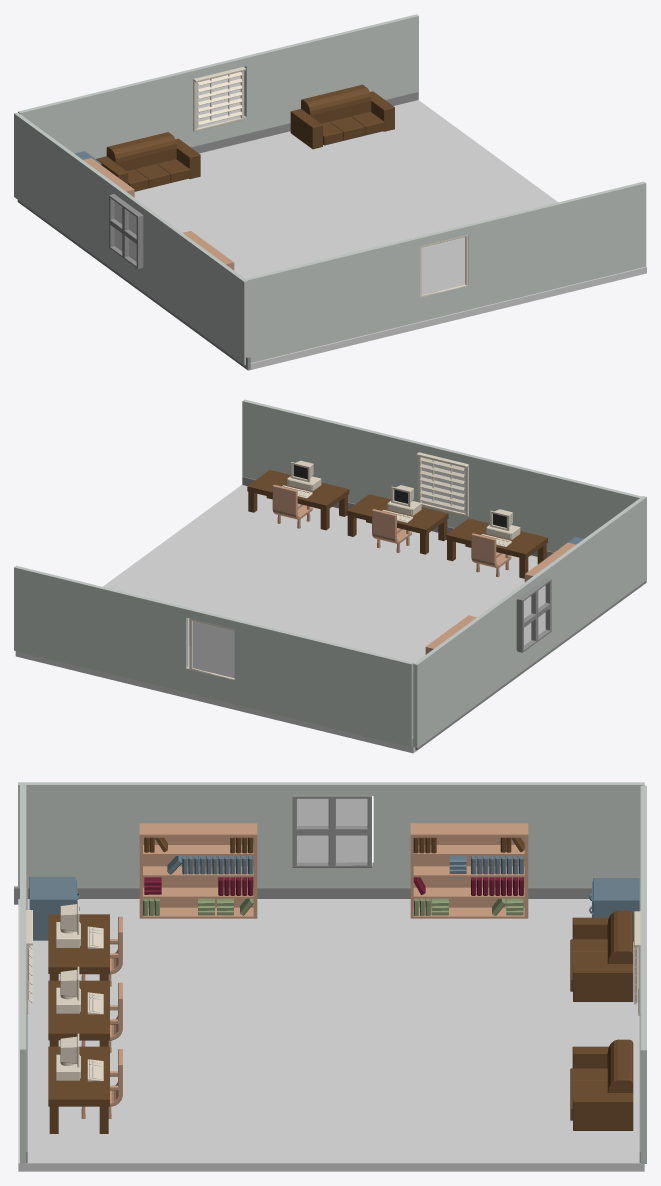
File: updatedLevel1.glb
3 views of the same model, one above another, from view 1: azimuth 30°, elevation 25°; view 2: azimuth 150°, elevation 25°; view 3: azimuth 270°, elevation 25° (orthographic). The views are drawn at different scales.
Parts seen in each view (by area): view 1: Cube.004, Cube.003, Cube.009, Cube.005, Couch.001, Couch, Window Cross.004, Window Cross.003, Window Cross.005, Wall Skirting.002, Wall Skirting.001; view 2: Cube.004, Cube.009, Cube.003, Cube.005, Window Cross.003, Window Cross.004, Table, Table.001, Window Cross.005, Table.002, Chair1.002, Chair1 (+5 smaller); view 3: Cube.004, Cube.005, Shelf, Shelf.002, Window Cross.005, Couch, Couch.001, Wall Skirting.001, Table, Table.001, Table.002, Cube.003 (+11 smaller).
Part boxes in pixels (bbox=[...]): Cube.004: bbox=[134, 100, 646, 370]; Cube.003: bbox=[245, 181, 646, 362]; Cube.009: bbox=[18, 14, 418, 158]; Cube.005: bbox=[14, 112, 248, 365]; Couch.001: bbox=[290, 84, 394, 149]; Couch: bbox=[96, 132, 200, 191]; Window Cross.004: bbox=[193, 67, 245, 131]; Window Cross.003: bbox=[420, 234, 468, 297]; Window Cross.005: bbox=[109, 194, 143, 269]; Wall Skirting.002: bbox=[191, 92, 418, 153]; Wall Skirting.001: bbox=[17, 200, 250, 369]; Cube.004: bbox=[15, 485, 537, 753]; Cube.009: bbox=[14, 565, 413, 747]; Cube.003: bbox=[242, 399, 641, 552]; Cube.005: bbox=[413, 496, 646, 747]; Window Cross.003: bbox=[416, 452, 468, 516]; Window Cross.004: bbox=[189, 618, 234, 679]; Table: bbox=[247, 470, 349, 530]; Table.001: bbox=[346, 494, 448, 554]; Window Cross.005: bbox=[516, 577, 551, 652]; Table.002: bbox=[446, 518, 547, 578]; Chair1.002: bbox=[471, 533, 511, 577]; Chair1: bbox=[272, 484, 312, 528]; Cube.004: bbox=[18, 899, 644, 1171]; Cube.005: bbox=[18, 782, 644, 887]; Shelf: bbox=[139, 823, 257, 918]; Shelf.002: bbox=[410, 823, 528, 918]; Window Cross.005: bbox=[292, 794, 371, 867]; Couch: bbox=[570, 910, 633, 1001]; Couch.001: bbox=[570, 1039, 633, 1130]; Wall Skirting.001: bbox=[14, 886, 591, 904]; Table: bbox=[48, 1046, 109, 1133]; Table.001: bbox=[48, 980, 109, 1046]; Table.002: bbox=[48, 914, 109, 980]; Cube.003: bbox=[20, 785, 26, 1163].
Size of the model in its own units: 41.03 by 8.6 by 40.42.
